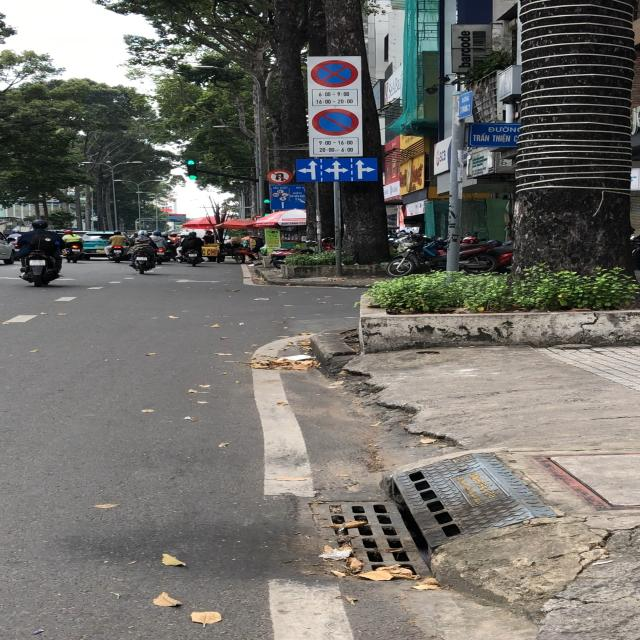Bien bao cam do xe: (310, 109, 362, 139)
Bien bao cam dung xe va do xe: (309, 58, 357, 88)
Bien bao cam quay dau xe: (266, 169, 300, 186)
